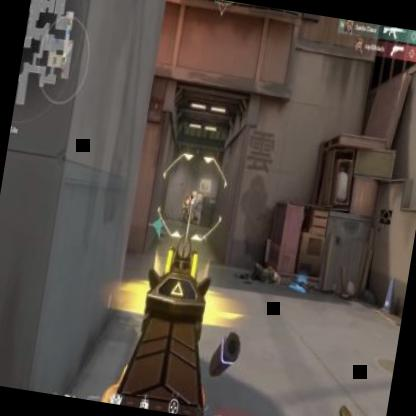enemy: (178, 195, 190, 231)
enemy_head: (184, 194, 187, 199)
